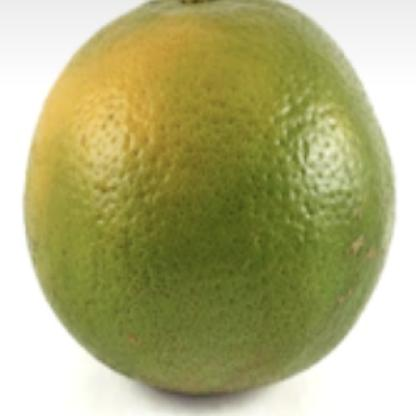fresh: (24, 1, 395, 394)
